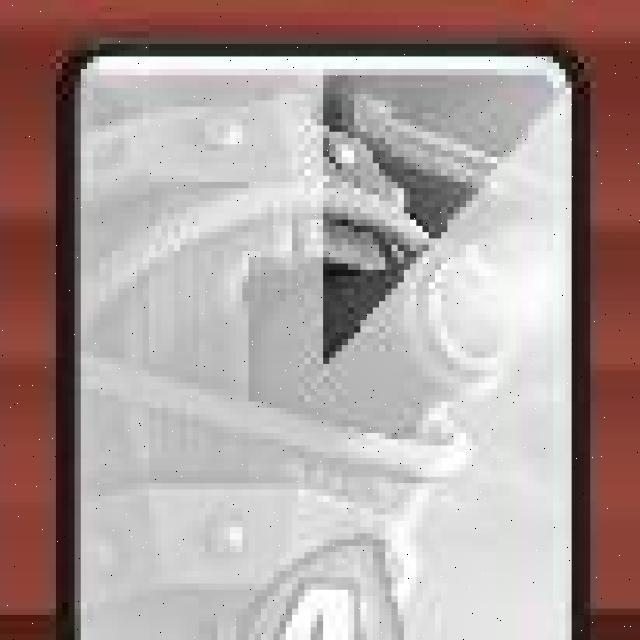Flying_Machine: (54, 44, 587, 640)
